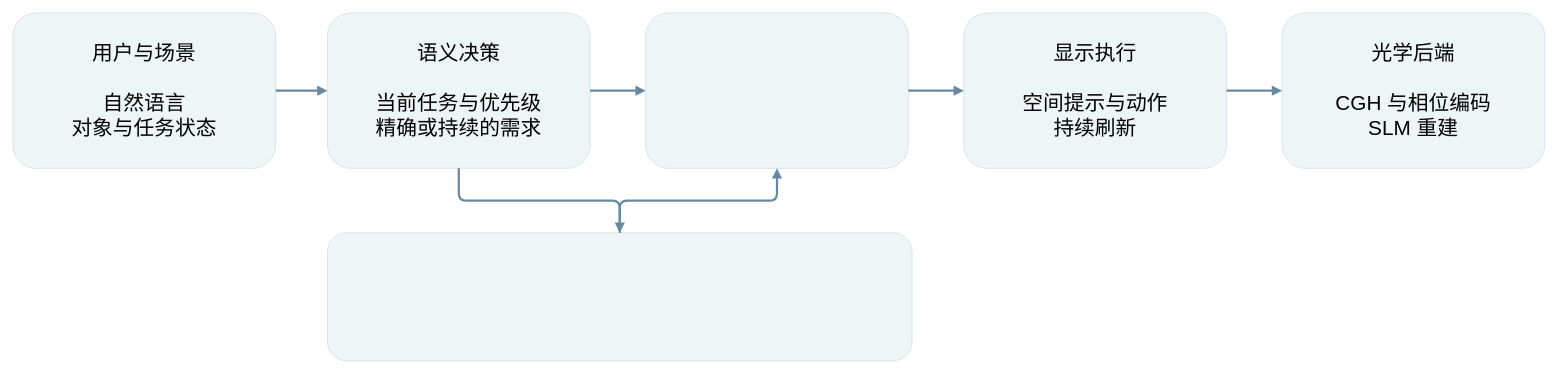
The diagram is 1558 pixels wide and 374 high, and some of its shapes have lost their labels. The centre of each missing label's shape, as x and y in pixels:
"显式任务状态 暂停与恢复 参数保留 版本校验" belongs at point 619,296.
"确定性映射 Gaussian 数量 轴向响应配置" belongs at point 776,90.
